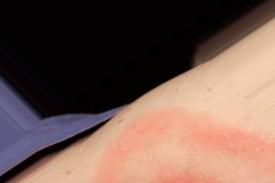Reupload: (8, 18, 274, 182)
